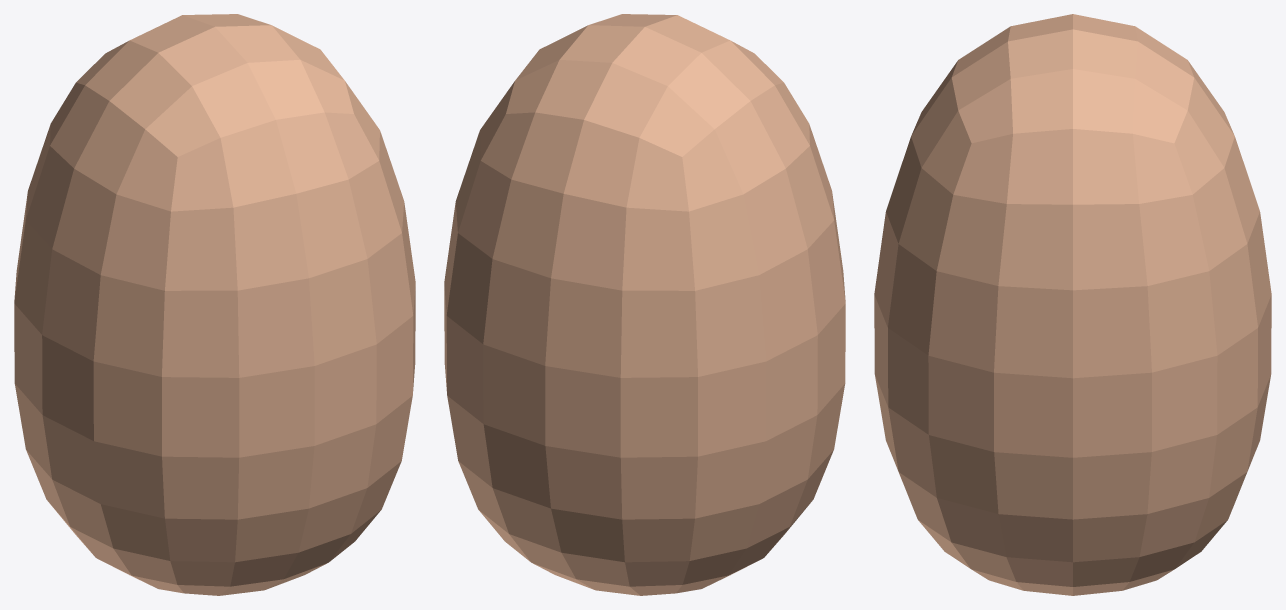
File: egg.fbx
The picture shows the model from 3 angles, left to right: view 1: azimuth 30°, elevation 25°; view 2: azimuth 150°, elevation 25°; view 3: azimuth 270°, elevation 25°; orthographic projection.
Parts seen in each view (by area): view 1: Cube; view 2: Cube; view 3: Cube.
Boxes of the visible parts, x1,y1,x2,y2 form: Cube: (14,14,415,595); Cube: (444,14,845,595); Cube: (874,14,1271,595).
Bounding box in the file's own units: 60.02 × 90.82 × 60.02.
